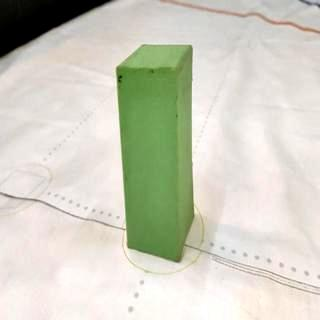greenbox: (116, 42, 198, 265)
